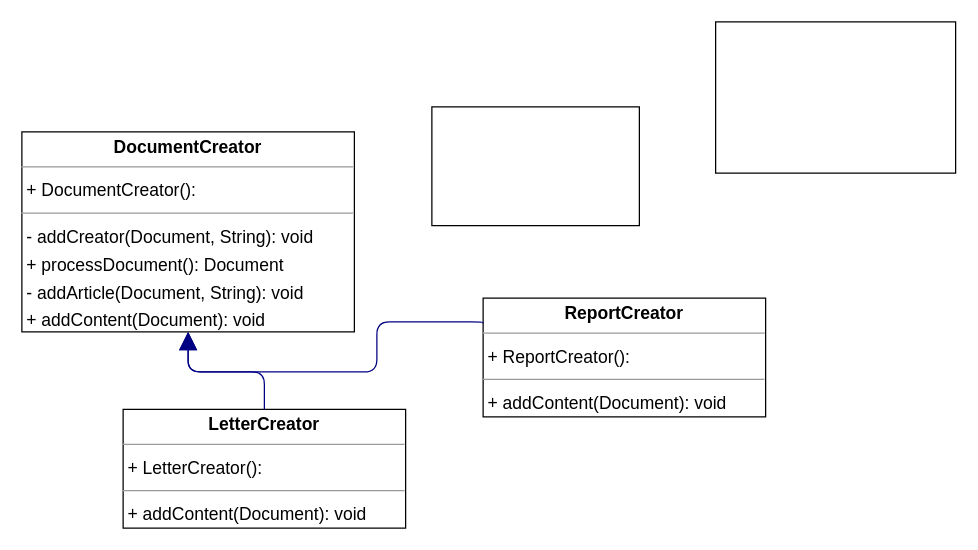
The diagram is 978 pixels wide and 550 high, and some of its shapes have lost their labels. Each missing label, with the centre of its shape:
Document + Document(): + createDocument(): void + toString(): String: pixel 835 97
main + main(): + main(String[]): void: pixel 535 166
